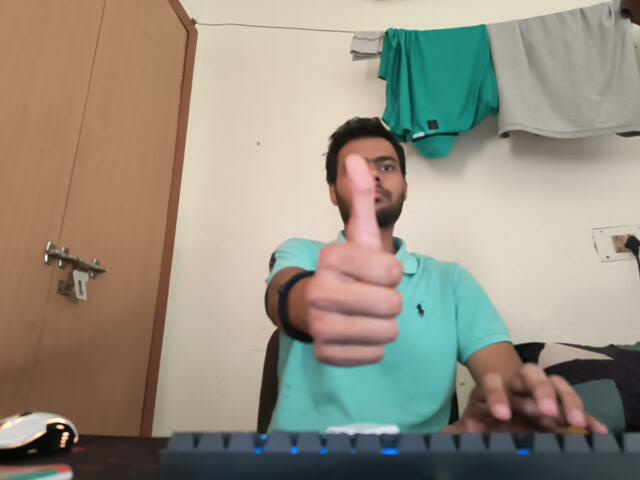ThumbsUp: (303, 154, 405, 370)
